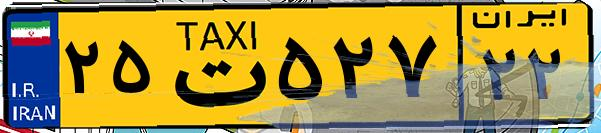2: (330, 28, 385, 110), (57, 26, 110, 100), (475, 38, 525, 113), (525, 38, 570, 115)
5: (270, 28, 330, 110), (110, 28, 158, 98)
7: (385, 28, 445, 110)
ت: (158, 12, 270, 120)
